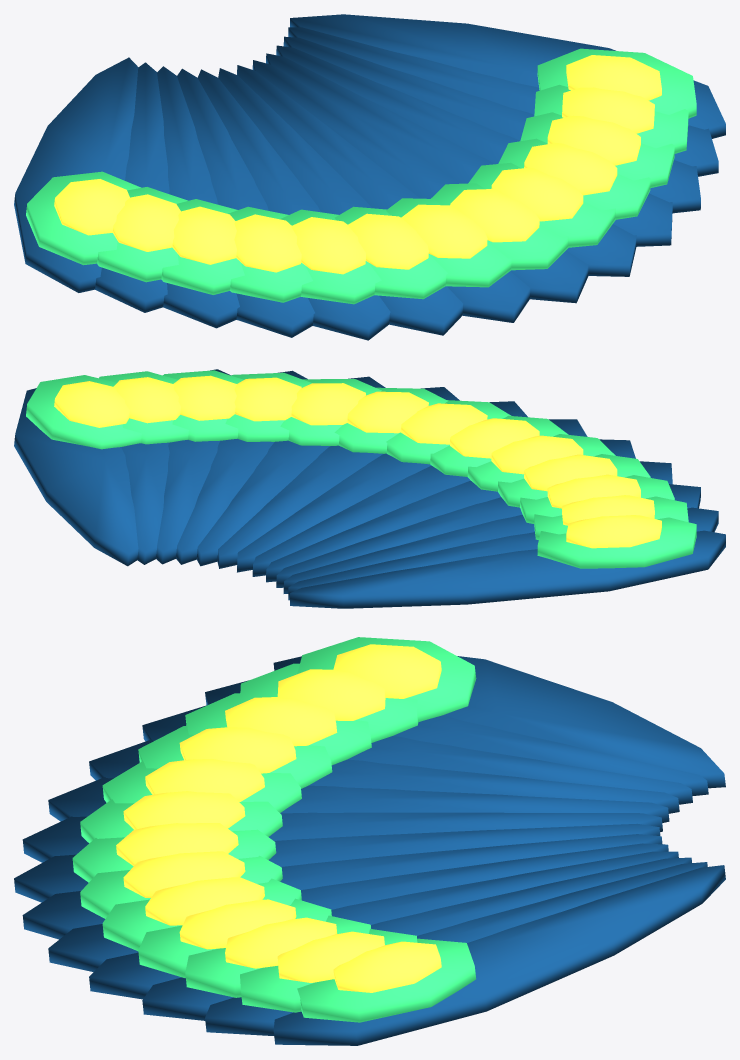
Rendered from animal_paon_extras.fbx.
3 views of the same model, one above another, from view 1: azimuth 30°, elevation 25°; view 2: azimuth 150°, elevation 25°; view 3: azimuth 270°, elevation 25° (orthographic). The views are drawn at different scales.
Visible parts, largest first — view 1: Anim_Plume_13, Anim_Plume_01, Anim_Plume_07, Anim_Plume_06, Anim_Plume_08, Anim_Plume_05, Anim_Plume_09, Anim_Plume_04, Anim_Plume_10, Anim_Plume_03, Anim_Plume_11, Anim_Plume_02 (+1 smaller); view 2: Anim_Plume_13, Anim_Plume_01, Anim_Plume_06, Anim_Plume_07, Anim_Plume_08, Anim_Plume_05, Anim_Plume_04, Anim_Plume_09, Anim_Plume_03, Anim_Plume_10, Anim_Plume_02, Anim_Plume_11 (+1 smaller); view 3: Anim_Plume_01, Anim_Plume_13, Anim_Plume_08, Anim_Plume_07, Anim_Plume_06, Anim_Plume_09, Anim_Plume_10, Anim_Plume_05, Anim_Plume_04, Anim_Plume_11, Anim_Plume_03, Anim_Plume_12 (+1 smaller).
Boxes of the visible parts, x1,y1,x2,y2 form: Anim_Plume_13: (14,57,141,292); Anim_Plume_01: (290,14,725,138); Anim_Plume_07: (237,65,530,322); Anim_Plume_06: (252,60,588,303); Anim_Plume_08: (218,68,462,335); Anim_Plume_05: (266,53,636,276); Anim_Plume_09: (197,69,390,340); Anim_Plume_04: (276,45,672,246); Anim_Plume_10: (177,68,314,337); Anim_Plume_03: (283,36,700,213); Anim_Plume_11: (157,66,244,328); Anim_Plume_02: (288,27,718,176); Anim_Plume_13: (290,515,725,608); Anim_Plume_01: (14,375,141,566); Anim_Plume_06: (217,387,459,568); Anim_Plume_07: (237,400,527,572); Anim_Plume_08: (252,415,587,576); Anim_Plume_05: (196,376,385,566); Anim_Plume_04: (176,370,311,564); Anim_Plume_09: (266,434,635,582); Anim_Plume_03: (156,369,243,564); Anim_Plume_10: (276,454,672,587); Anim_Plume_02: (99,371,188,564); Anim_Plume_11: (283,474,700,593); Anim_Plume_01: (273,865,725,1045); Anim_Plume_13: (273,637,725,788); Anim_Plume_08: (22,791,662,862); Anim_Plume_07: (14,823,660,902); Anim_Plume_06: (22,834,662,939); Anim_Plume_09: (48,759,669,822); Anim_Plume_10: (89,726,679,813); Anim_Plume_05: (48,843,668,971); Anim_Plume_04: (89,851,678,999); Anim_Plume_11: (142,693,692,804); Anim_Plume_03: (142,857,691,1020); Anim_Plume_12: (205,663,708,796).
Bounding box in the file's own units: 1.17 × 0.1218 × 0.9097.
